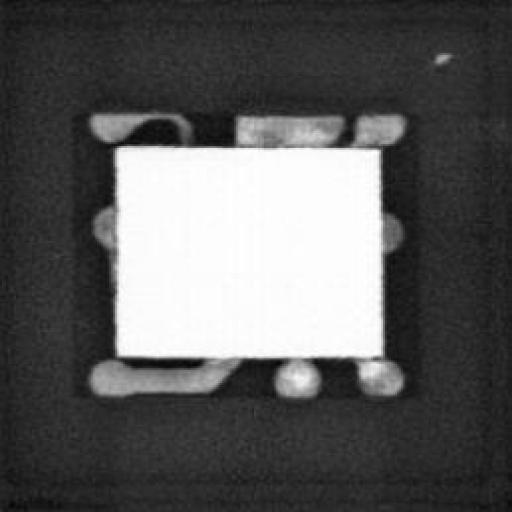DIE_INK: (430, 46, 450, 64)
